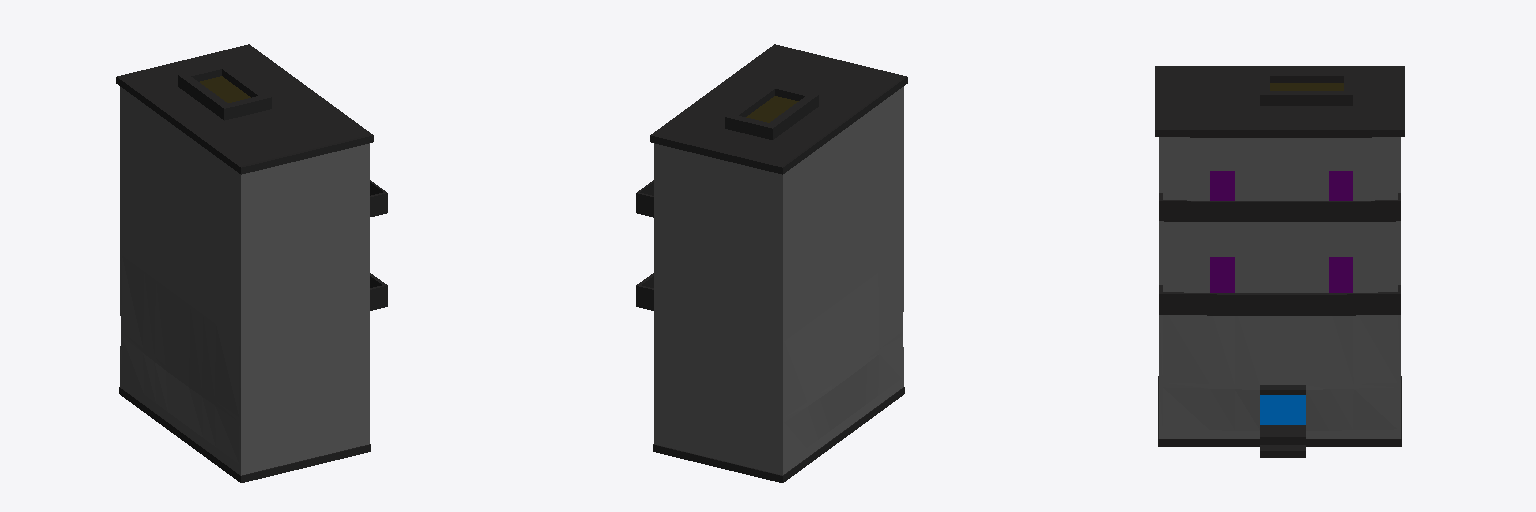
The picture shows the model from 3 angles: view 1: azimuth 30°, elevation 25°; view 2: azimuth 150°, elevation 25°; view 3: azimuth 270°, elevation 25°; orthographic projection.
Parts seen in each view (by area): view 1: Cube; view 2: Cube; view 3: Cube.
Boxes of the visible parts, x1,y1,x2,y2 form: Cube: [116, 44, 387, 482]; Cube: [636, 44, 907, 482]; Cube: [1155, 66, 1404, 457].
Size of the model in its own units: 5.26 by 10.68 by 7.34.
Materials: 1 (1 with a texture image).